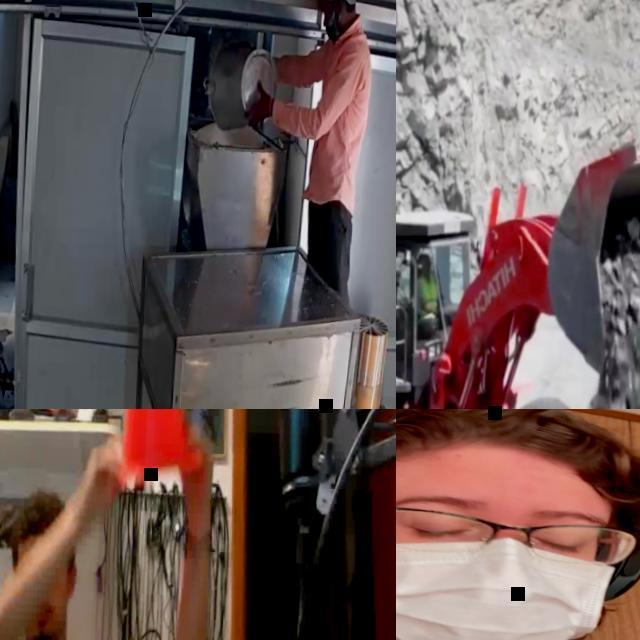helmet: (396, 409, 640, 488), (422, 253, 432, 264)
vest: (418, 276, 438, 314)
